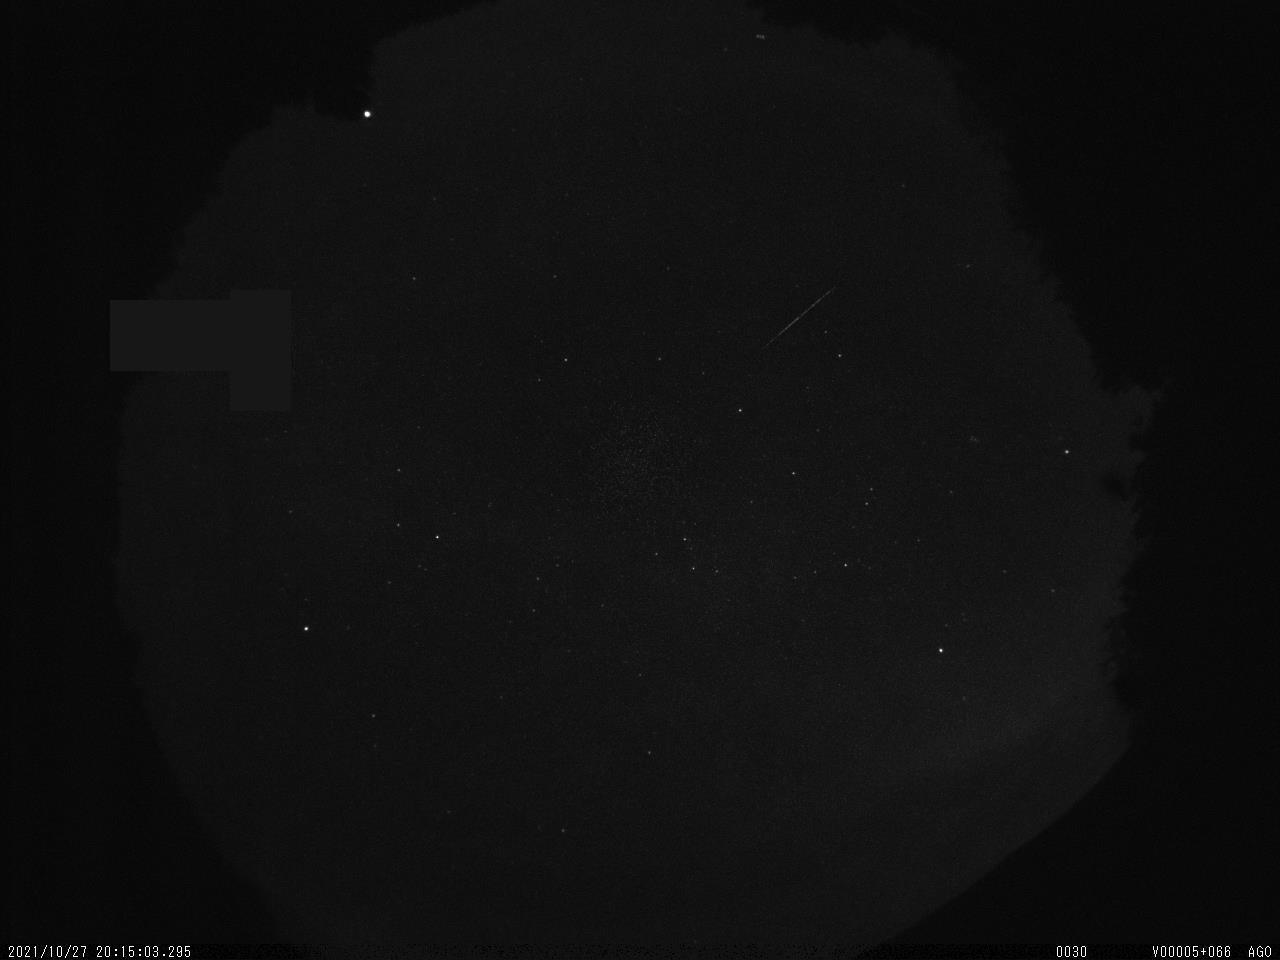meteor: (764, 271, 845, 344)
